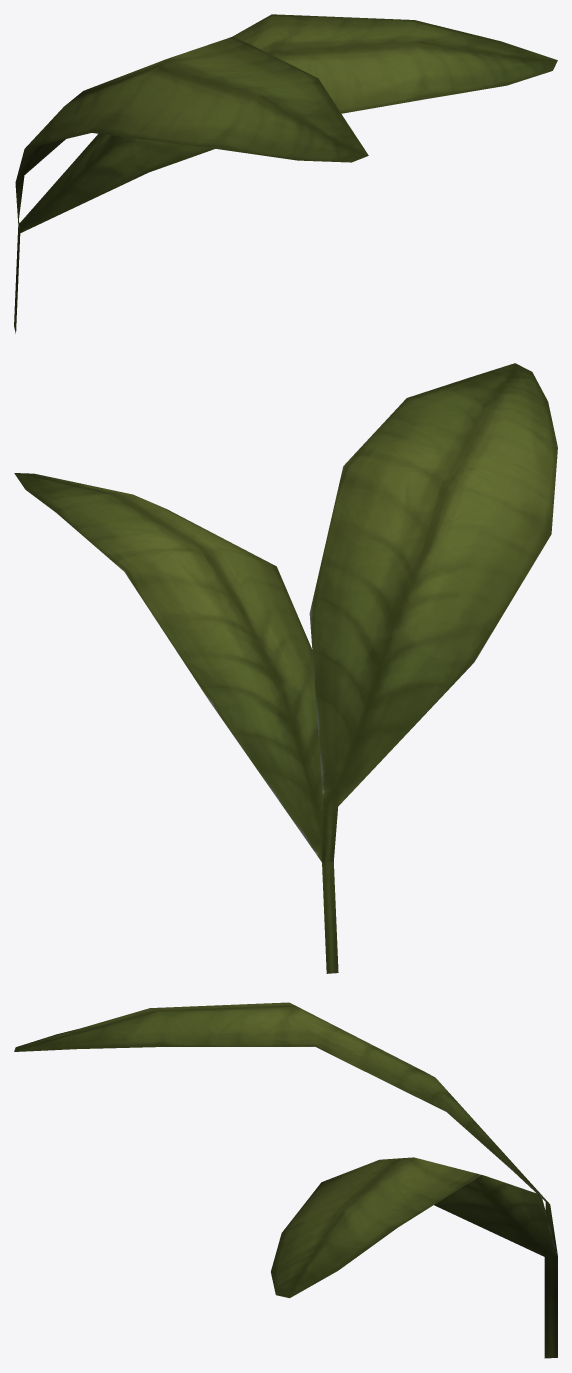
File: 001KusaS01.fbx
3 views of the same model, one above another, from view 1: azimuth 30°, elevation 25°; view 2: azimuth 150°, elevation 25°; view 3: azimuth 270°, elevation 25° (orthographic). The views are drawn at different scales.
Visible parts, largest first — view 1: KusaS01; view 2: KusaS01; view 3: KusaS01.
Part boxes in pixels (x1,y1,x2,y2): KusaS01: (14,14,557,333); KusaS01: (14,363,557,973); KusaS01: (14,1002,557,1358).
Size of the model in its own units: 14.98 by 10.91 by 14.3.
1 material, 1 textured.
